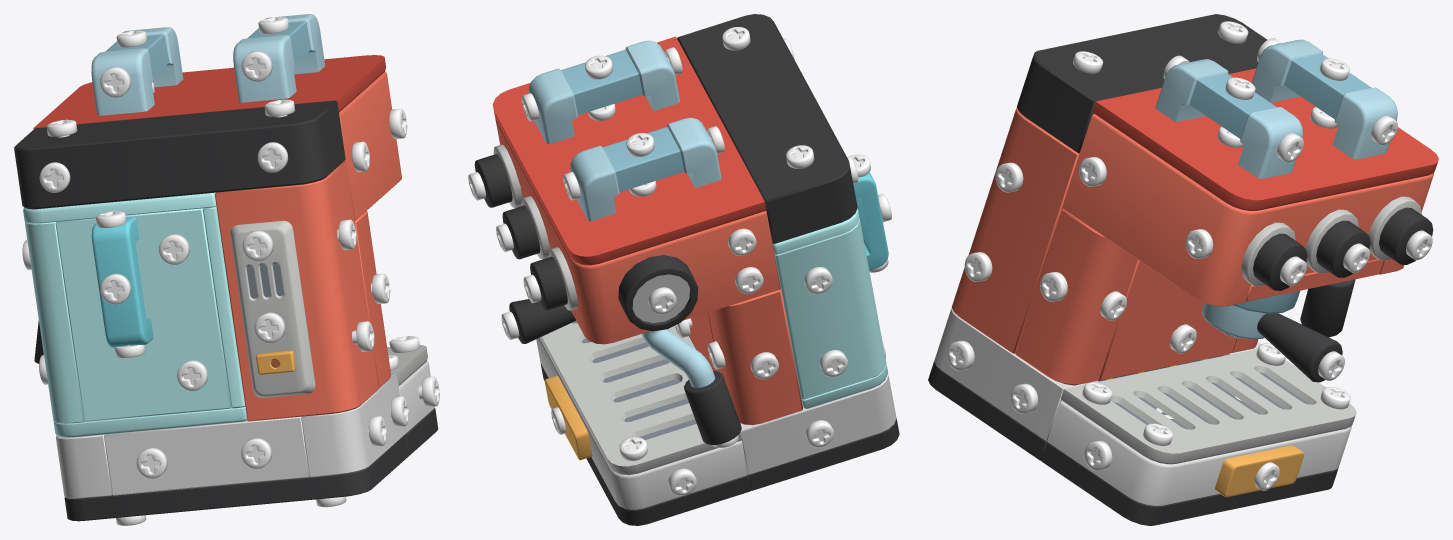
The model's file is CoffeeMachine_GroupE.fbx.
The picture shows the model from 3 angles, left to right: view 1: azimuth 30°, elevation 25°; view 2: azimuth 150°, elevation 25°; view 3: azimuth 270°, elevation 25°; orthographic projection. The views are drawn at different scales.
Visible parts, largest first — view 1: CoffeeMachine_005, CoffeeMachine_033, CoffeeMachine_018, Screw (×18), CoffeeMachine_025, CoffeeMachine_023, CoffeeMachine_002, CoffeeMachine_009, CoffeeMachine_031, CoffeeMachine_026, CoffeeMachine_038, CoffeeMachine_014 (+10 smaller); view 2: CoffeeMachine_002, CoffeeMachine_005, CoffeeMachine_024, CoffeeMachine_031, CoffeeMachine_007, CoffeeMachine_006, Screw (×13), CoffeeMachine_015, CoffeeMachine_014, CoffeeMachine_004, CoffeeMachine_003, CoffeeMachine_016 (+14 smaller); view 3: CoffeeMachine_024, CoffeeMachine_038, CoffeeMachine_002, CoffeeMachine_018, CoffeeMachine_005, CoffeeMachine_028, Screw (×16), CoffeeMachine_003, CoffeeMachine_027, CoffeeMachine_014, CoffeeMachine_015, CoffeeMachine_026 (+13 smaller).
Part boxes in pixels (box(x1,y1,x2,y2)): CoffeeMachine_005: box(14, 100, 345, 209); CoffeeMachine_033: box(55, 208, 231, 421); CoffeeMachine_018: box(214, 161, 378, 421); Screw (×18): box(39, 51, 439, 478); CoffeeMachine_025: box(104, 416, 309, 495); CoffeeMachine_023: box(230, 220, 315, 398); CoffeeMachine_002: box(33, 55, 385, 128); CoffeeMachine_009: box(64, 435, 408, 521); CoffeeMachine_031: box(25, 221, 84, 423); CoffeeMachine_026: box(301, 374, 405, 477); CoffeeMachine_038: box(339, 71, 401, 220); CoffeeMachine_014: box(233, 14, 325, 102); CoffeeMachine_002: box(492, 36, 766, 265); CoffeeMachine_005: box(677, 14, 857, 243); CoffeeMachine_024: box(540, 320, 741, 475); CoffeeMachine_031: box(774, 219, 886, 399); CoffeeMachine_007: box(563, 211, 780, 344); CoffeeMachine_006: box(708, 289, 802, 425); Screw (×13): box(584, 27, 847, 495); CoffeeMachine_015: box(570, 117, 721, 221); CoffeeMachine_014: box(528, 40, 679, 144); CoffeeMachine_004: box(740, 373, 896, 474); CoffeeMachine_003: box(536, 338, 747, 509); CoffeeMachine_016: box(618, 255, 698, 331); CoffeeMachine_024: box(1061, 349, 1356, 464); CoffeeMachine_038: box(1062, 114, 1274, 306); CoffeeMachine_002: box(1092, 68, 1438, 210); CoffeeMachine_018: box(952, 107, 1079, 353); CoffeeMachine_005: box(1017, 14, 1267, 153); CoffeeMachine_028: box(1015, 209, 1137, 385); Screw (×16): box(947, 115, 1432, 470); CoffeeMachine_003: box(1047, 401, 1351, 506); CoffeeMachine_027: box(1099, 259, 1235, 380); CoffeeMachine_014: box(1155, 59, 1303, 178); CoffeeMachine_015: box(1252, 39, 1397, 159); CoffeeMachine_026: box(934, 307, 1098, 441).
Size of the model in its own units: 8.75 by 10.05 by 10.36.
3 materials, 2 textured.
